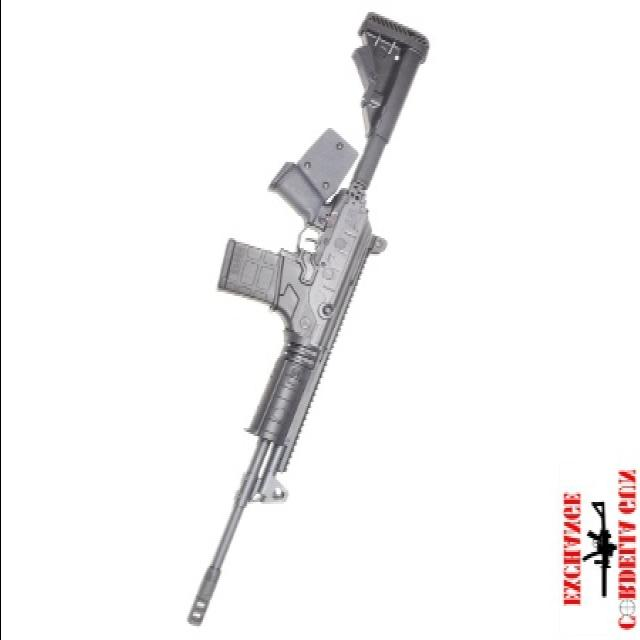rifle: (168, 11, 444, 640)
